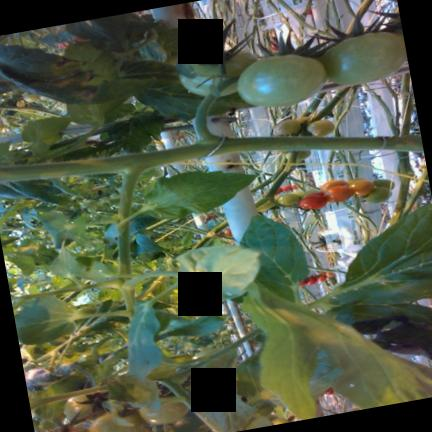6kp_peduncle: (163, 81, 261, 164), (257, 187, 294, 207)
6kp_petiole: (80, 148, 179, 206)
MainStem: (0, 134, 423, 181), (255, 151, 299, 207), (390, 151, 412, 224), (250, 152, 289, 191), (312, 86, 353, 120), (191, 219, 229, 249), (399, 72, 413, 135), (346, 0, 372, 33), (301, 91, 326, 116)
tomato: (237, 54, 326, 106), (319, 32, 406, 84), (179, 51, 256, 95), (139, 397, 188, 424), (89, 412, 144, 432), (193, 347, 235, 371), (64, 394, 93, 419), (324, 185, 353, 202), (298, 192, 326, 209), (307, 119, 334, 136), (347, 178, 374, 195), (365, 187, 391, 203), (275, 119, 300, 134), (320, 179, 346, 192), (181, 288, 205, 302), (275, 192, 300, 204), (373, 179, 393, 189), (178, 301, 201, 308), (296, 150, 310, 161), (23, 93, 39, 102), (272, 417, 289, 425), (223, 228, 232, 237), (299, 278, 308, 285), (307, 277, 316, 284), (316, 275, 325, 281), (39, 95, 49, 100), (325, 272, 334, 277), (273, 217, 281, 222), (0, 124, 4, 129)
